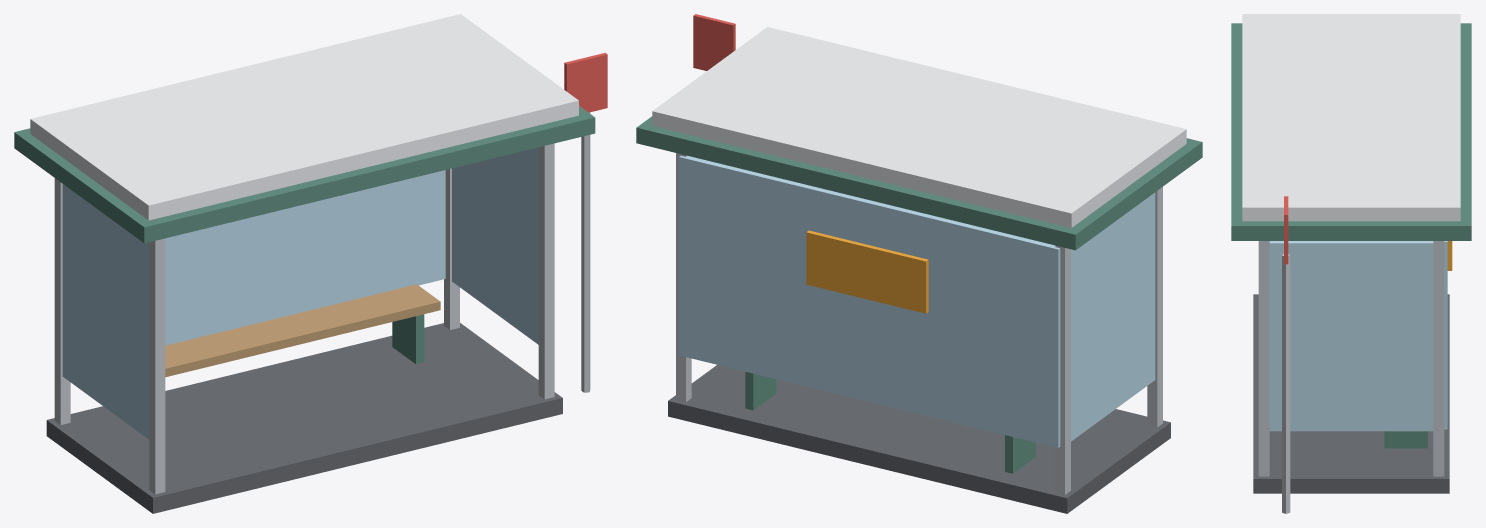
File: ski-resort-and-snow-park-bus-stop-9cc99ee2__26000.glb
3 renders of one model, left to right at view 1: azimuth 30°, elevation 25°; view 2: azimuth 150°, elevation 25°; view 3: azimuth 270°, elevation 25°, orthographic. The views are drawn at different scales.
Parts seen in each view (by area): view 1: bus-stop; view 2: bus-stop; view 3: bus-stop.
Boxes of the visible parts, <box> form: bus-stop: <box>14,14,607,513</box>; bus-stop: <box>636,14,1202,513</box>; bus-stop: <box>1231,14,1471,513</box>.
Bounding box in the file's own units: 4.8 × 3.1 × 2.2.
